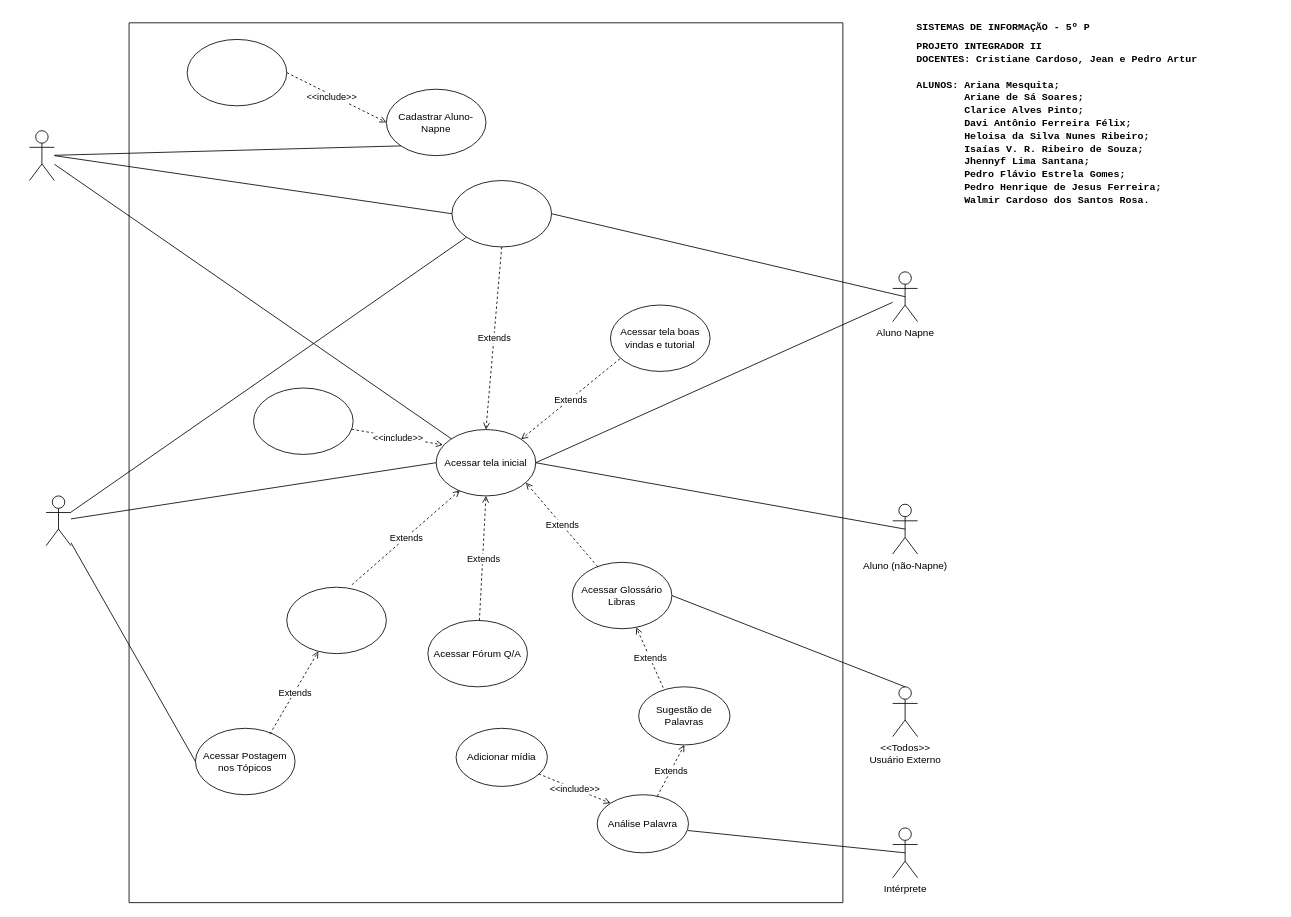
Image size: 1291x917. Some labels were removed from this diagram. The centre of each missing label's shape, as x and y in pixels:
Acessar Chat: pixel 501 213
Acessar Tópicos: pixel 336 620
Cadastrar diagnósticos: pixel 236 72
Cadastrar Login/Senha: pixel 303 420
Professor: pixel 58 520
Tutor Napne: pixel 41 155
